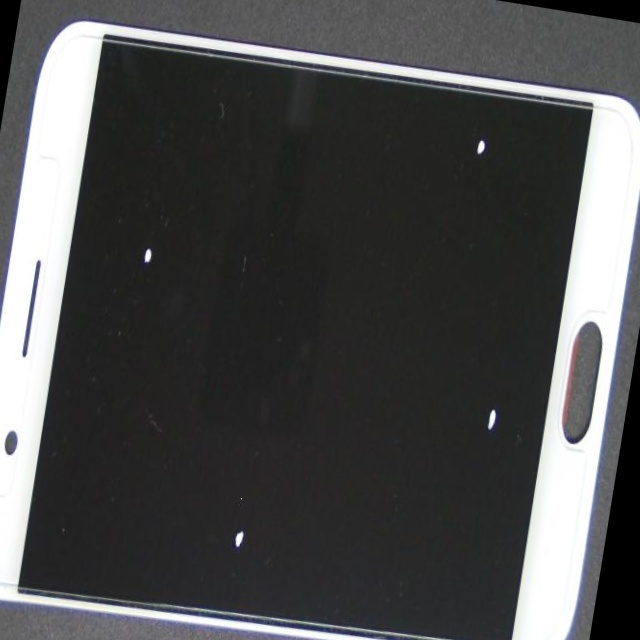stain: (185, 153, 640, 640), (48, 216, 419, 640), (208, 49, 640, 295), (25, 103, 226, 459)
